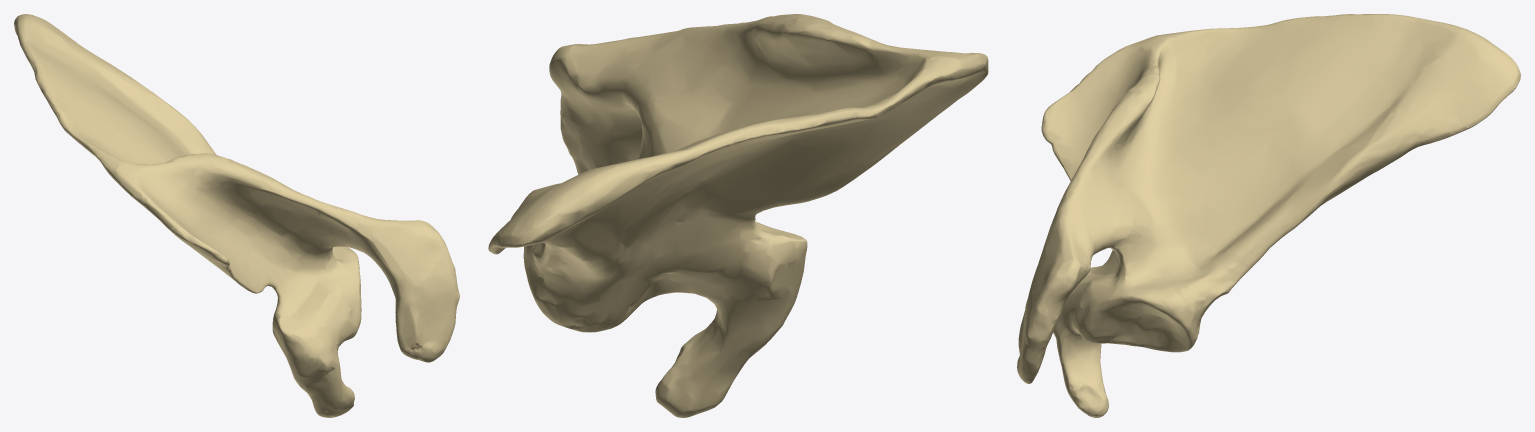
3 renders of one model, left to right at view 1: azimuth 30°, elevation 25°; view 2: azimuth 150°, elevation 25°; view 3: azimuth 270°, elevation 25°, orthographic. The views are drawn at different scales.
Parts seen in each view (by area): view 1: 左侧肩胛骨; view 2: 左侧肩胛骨; view 3: 左侧肩胛骨.
Boxes of the visible parts, x1,y1,x2,y2 form: 左侧肩胛骨: [14, 14, 459, 417]; 左侧肩胛骨: [488, 14, 988, 417]; 左侧肩胛骨: [1017, 14, 1520, 417].
Size of the model in its own units: 0.1664 by 0.168 by 0.241.
